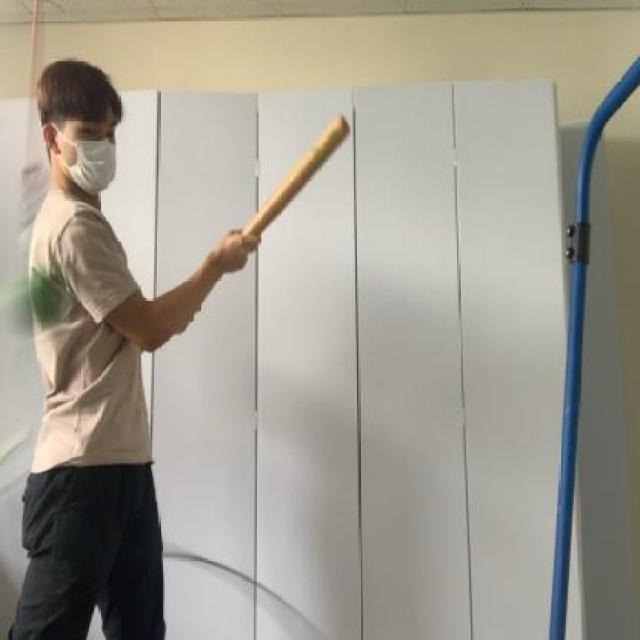baseball: (0, 263, 74, 334)
